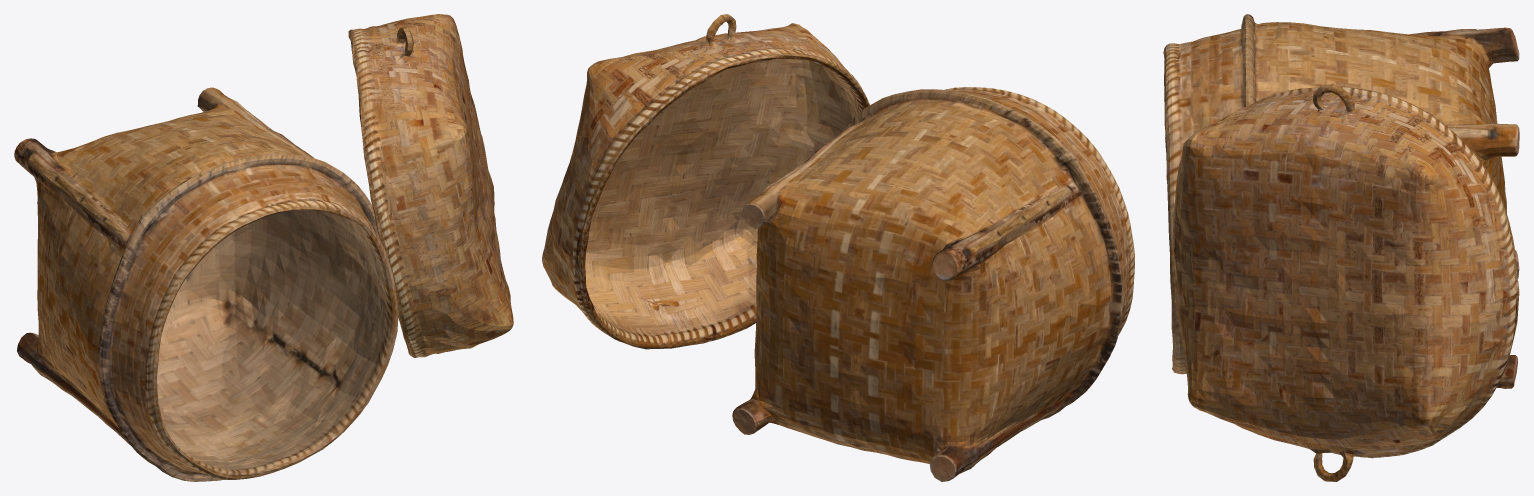
The model's file is living_storage_basket.obj.
3 renders of one model, left to right at view 1: azimuth 30°, elevation 25°; view 2: azimuth 150°, elevation 25°; view 3: azimuth 270°, elevation 25°, orthographic. The views are drawn at different scales.
Size of the model in its own units: 0.55 by 0.4034 by 0.3178.
1 material, 1 textured.
